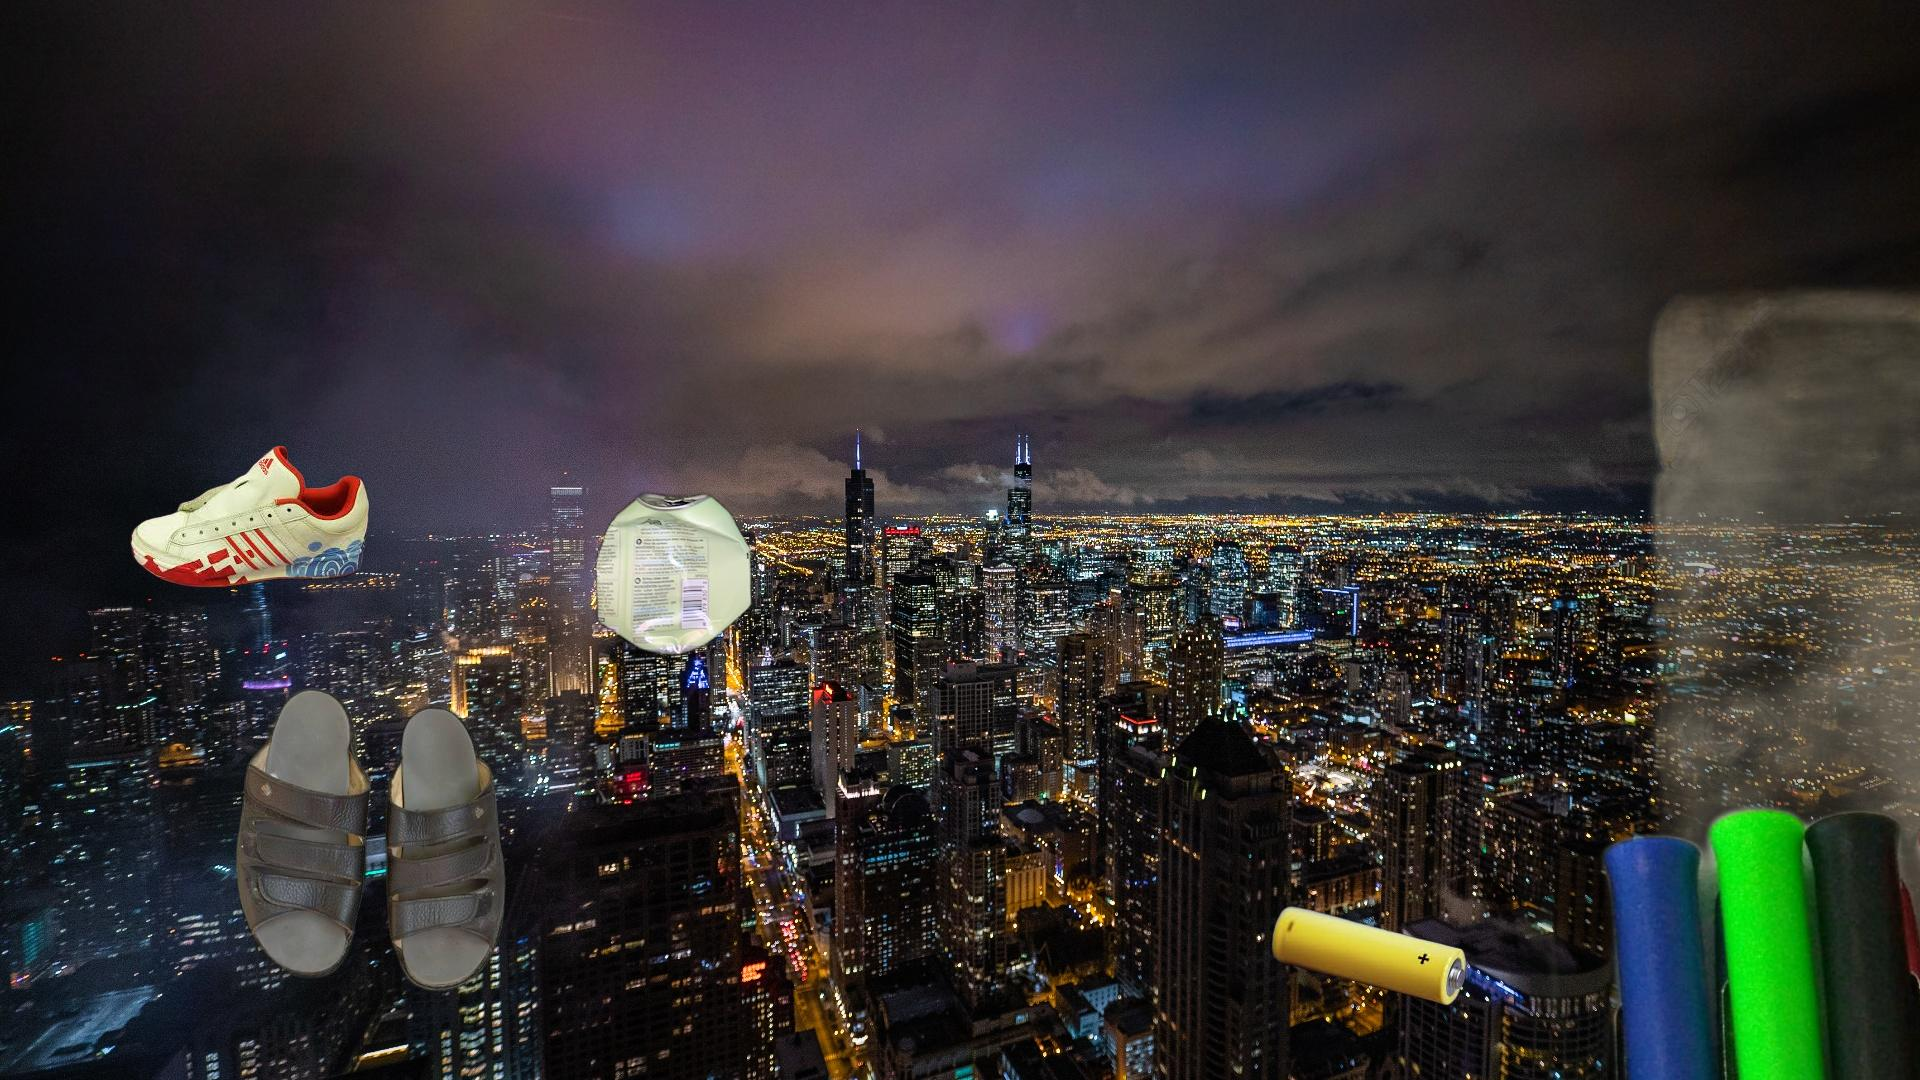battery: (1270, 903, 1469, 1007)
metal-cans: (591, 487, 756, 661)
penholder: (1486, 798, 1920, 1080)
shoes: (233, 684, 509, 996), (127, 443, 372, 591)
trashbox-cardboard: (1623, 264, 1920, 1080)
